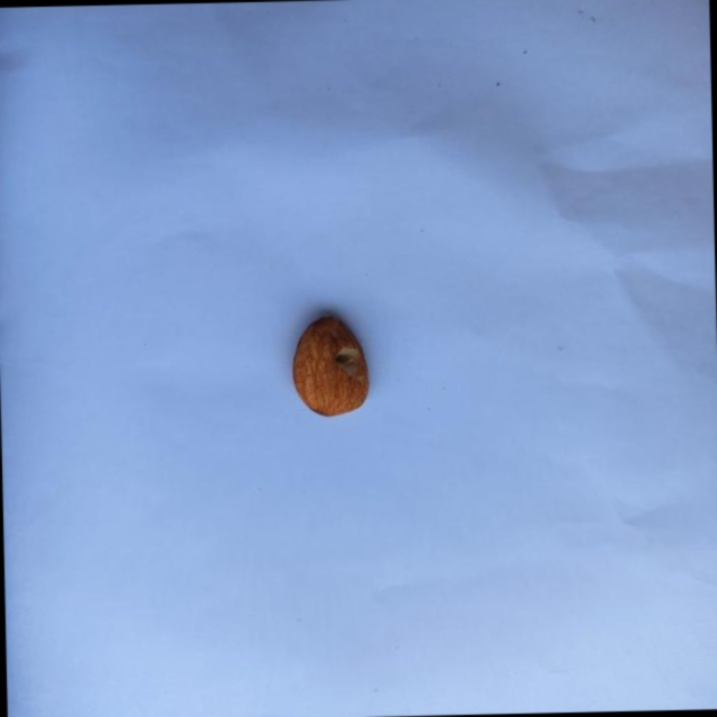grade3: (289, 310, 376, 422)
